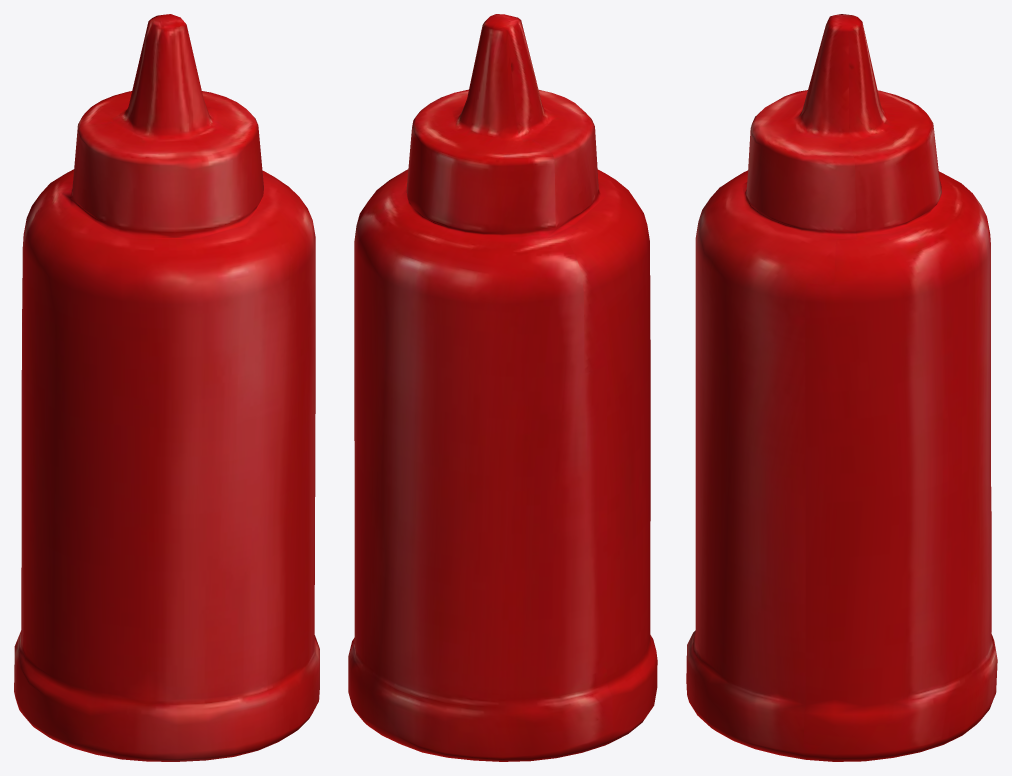
The model's file is frank-ketchup-grenade.glb.
3 renders of one model, left to right at view 1: azimuth 30°, elevation 25°; view 2: azimuth 150°, elevation 25°; view 3: azimuth 270°, elevation 25°, orthographic.
Visible parts, largest first — view 1: model; view 2: model; view 3: model.
Part boxes in pixels (x1,y1,x2,y2): model: (14,14,319,761); model: (348,14,657,761); model: (686,14,997,761).
Size of the model in its own units: 0.4087 by 1 by 0.4123.
1 material, 1 textured.
